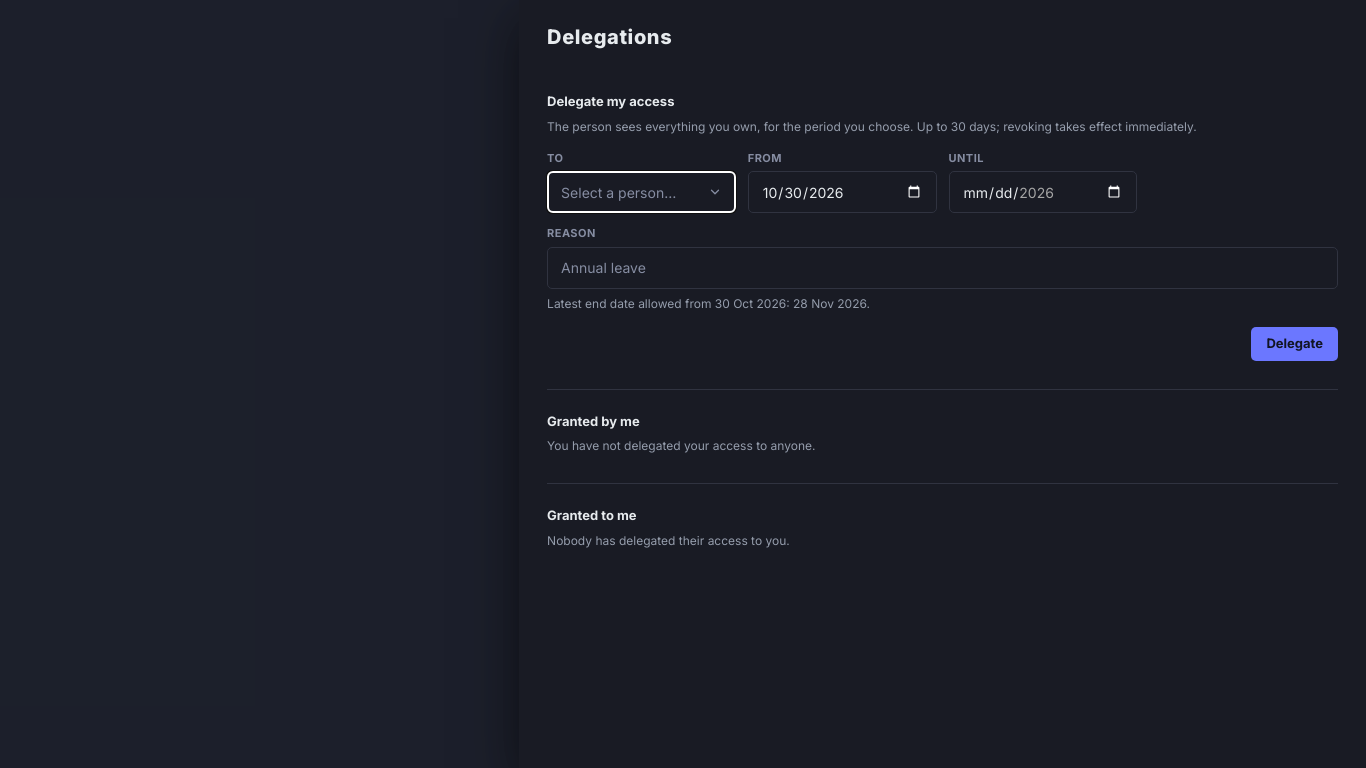
Test: DelegationsPanel › should not send a grant with nobody named
Expected: the button with aria-label "Delegate to" is shown, [547, 171, 736, 213]
Click the button "Delegate" at (1295,344), box [1252, 326, 1338, 360]
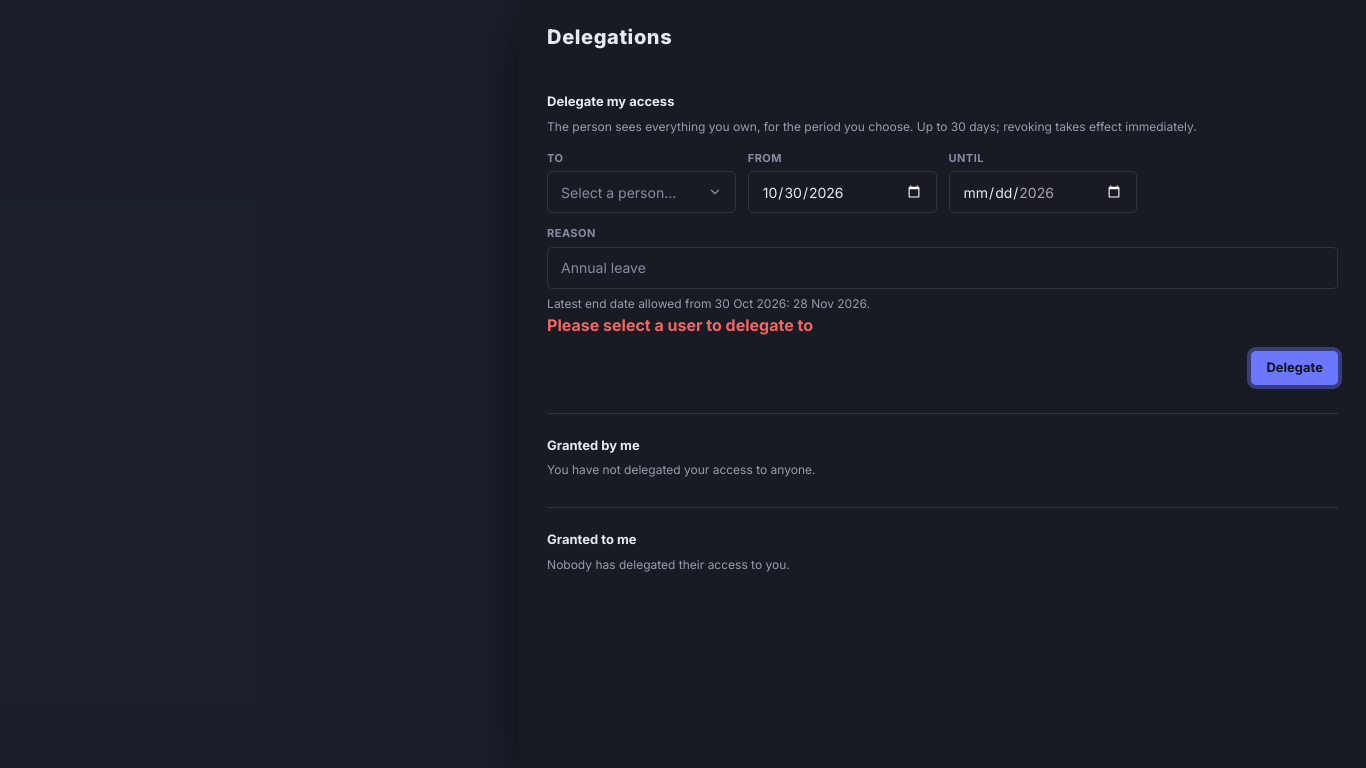
Result: the text "Please select a user to delegate to" is shown at [547, 314, 813, 334]
